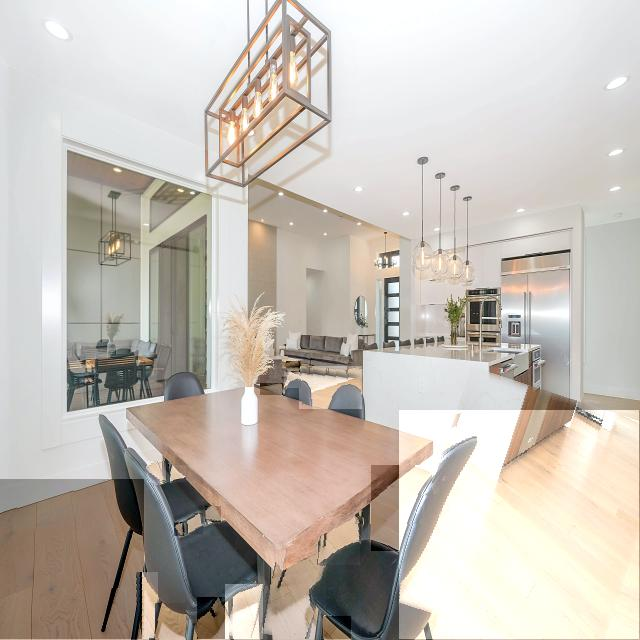floor: (400, 411, 640, 640), (0, 480, 144, 639), (263, 551, 326, 640), (371, 466, 432, 551), (300, 366, 362, 409), (225, 584, 264, 639), (319, 518, 360, 565), (197, 597, 235, 640), (142, 572, 158, 639), (156, 604, 187, 638), (324, 616, 351, 639), (148, 461, 165, 483), (188, 513, 203, 534), (170, 466, 186, 482), (285, 372, 301, 388), (261, 384, 283, 395), (205, 507, 221, 522), (286, 361, 300, 372), (415, 628, 425, 640), (175, 523, 184, 536), (359, 512, 363, 524), (281, 362, 286, 366), (168, 462, 170, 466), (300, 362, 300, 364)
